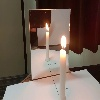fire: (61, 35, 67, 50)
